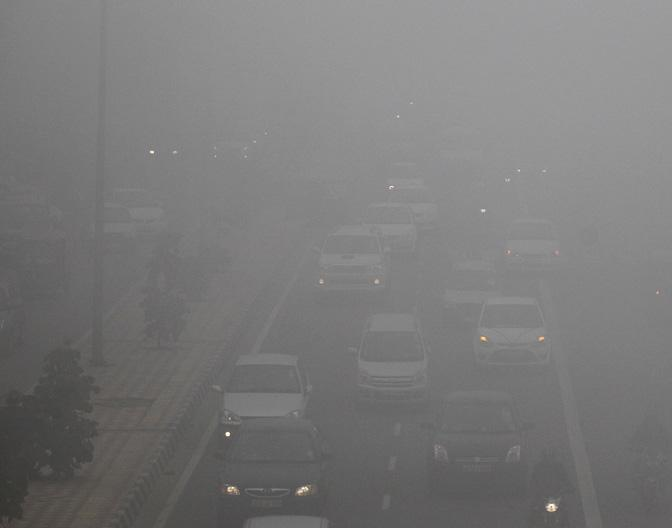car: (419, 385, 536, 497), (213, 417, 338, 520), (210, 349, 316, 435), (346, 309, 430, 411), (464, 293, 555, 369), (311, 224, 393, 297), (356, 199, 423, 264), (440, 255, 502, 318), (503, 217, 564, 277), (108, 185, 169, 242), (82, 199, 138, 256), (387, 182, 442, 236), (207, 125, 260, 168), (385, 160, 427, 197)
person: (528, 445, 575, 523), (628, 412, 670, 499)
